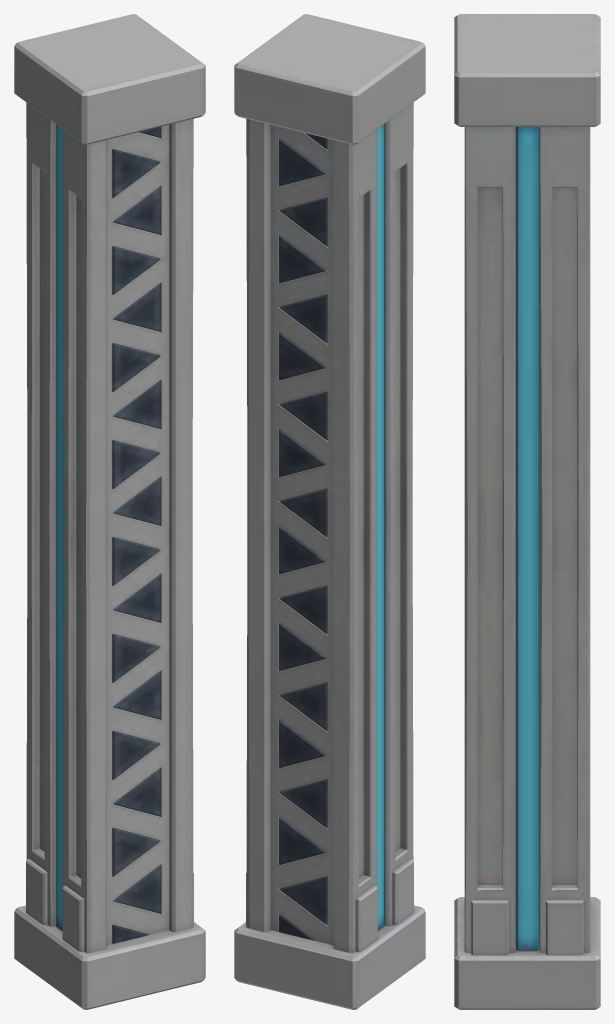
The model's file is SM_Pillar_SF_e155ea.glb.
The picture shows the model from 3 angles, left to right: view 1: azimuth 30°, elevation 25°; view 2: azimuth 150°, elevation 25°; view 3: azimuth 270°, elevation 25°; orthographic projection. The views are drawn at different scales.
Bounding box in the file's own units: 0.4723 × 3.34 × 0.4723.
1 material, 1 textured.
